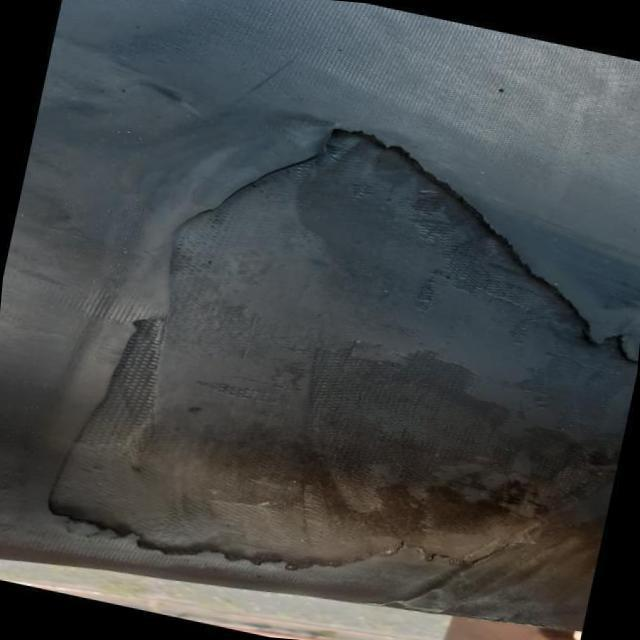Tear: (45, 127, 640, 629)
